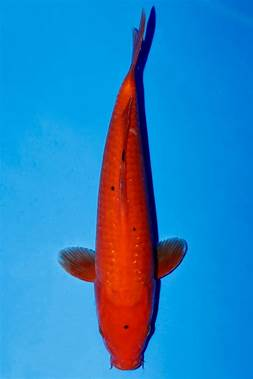red: (58, 6, 188, 371)
